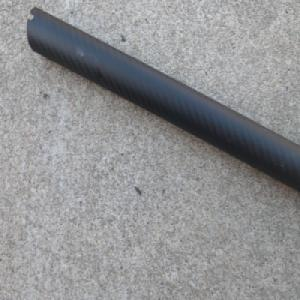LuggagePart: (28, 6, 300, 199)
